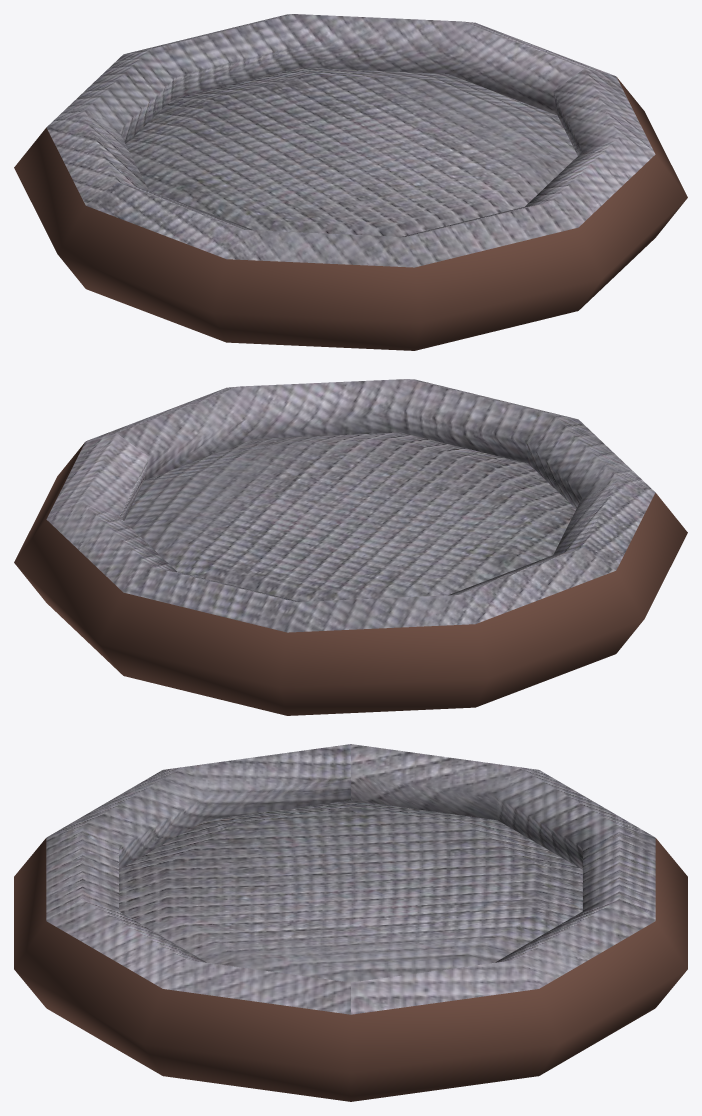
Rendered from M_Dogdianzi02.FBX.
3 renders of one model, top to bottom at view 1: azimuth 30°, elevation 25°; view 2: azimuth 150°, elevation 25°; view 3: azimuth 270°, elevation 25°, orthographic. The views are drawn at different scales.
Parts seen in each view (by area): view 1: M_Dogdianzi02_02, M_Dogdianzi02_01; view 2: M_Dogdianzi02_02, M_Dogdianzi02_01; view 3: M_Dogdianzi02_02, M_Dogdianzi02_01.
Part boxes in pixels (left/top/right/bottom): M_Dogdianzi02_02: left=46, top=14, right=655, bottom=267; M_Dogdianzi02_01: left=14, top=77, right=687, bottom=350; M_Dogdianzi02_02: left=46, top=379, right=655, bottom=632; M_Dogdianzi02_01: left=14, top=442, right=687, bottom=715; M_Dogdianzi02_02: left=46, top=744, right=655, bottom=1014; M_Dogdianzi02_01: left=14, top=838, right=687, bottom=1101.
Size of the model in its own units: 1.79 by 0.2885 by 1.71.
